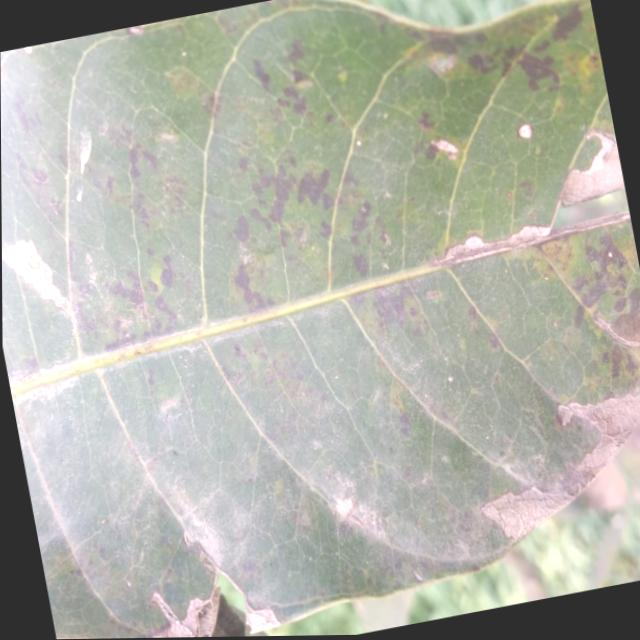Bacterial Cancer: (556, 377, 640, 447), (554, 141, 626, 205), (481, 479, 554, 534), (149, 581, 215, 638)
Powdery Mildew: (2, 228, 76, 322), (237, 594, 282, 636), (436, 134, 461, 165), (519, 122, 528, 136)
black die: (251, 51, 320, 126), (108, 263, 183, 325), (250, 156, 304, 227), (229, 252, 271, 317), (352, 202, 386, 250), (294, 162, 332, 204)
